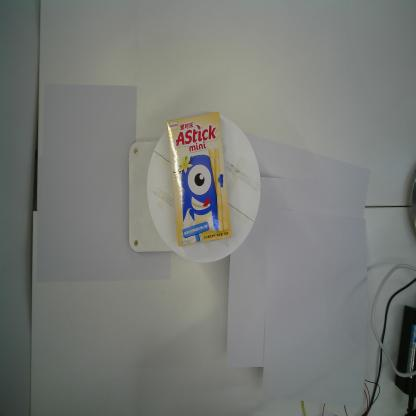Dessert: (166, 110, 233, 248)
